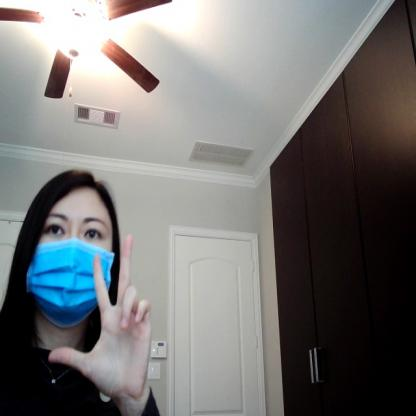three: (45, 235, 156, 411)
